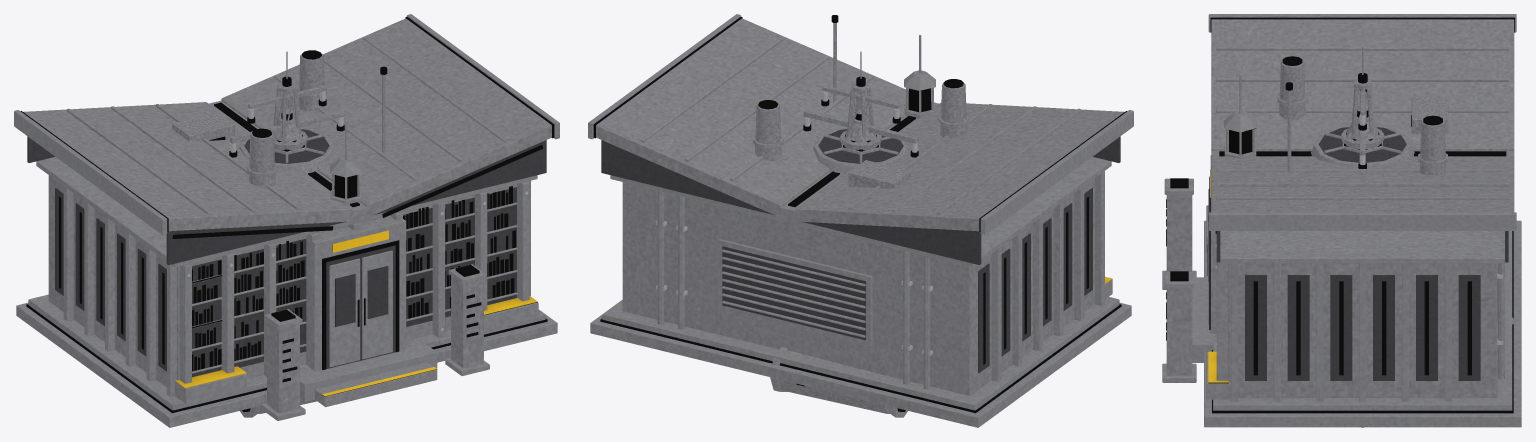
Rendered from buildings.glb.
The picture shows the model from 3 angles, left to right: view 1: azimuth 30°, elevation 25°; view 2: azimuth 150°, elevation 25°; view 3: azimuth 270°, elevation 25°; orthographic projection. The views are drawn at different scales.
Visible parts, largest first — view 1: library, pump, pylon, spire; view 2: library, pump, pylon, skiff, spire; view 3: library, pump, pylon, spire, stack.
Boxes of the visible parts, x1,y1,x2,y2 form: library: (14,14,559,427); pump: (172,50,387,187); pylon: (229,51,344,157); spire: (273,93,306,154); library: (588,14,1133,427); pump: (753,15,968,188); pylon: (803,51,918,157); skiff: (770,347,907,417); spire: (841,93,880,154); library: (1162,14,1521,427); pump: (1277,56,1448,175); pylon: (1351,46,1373,168); spire: (1342,90,1382,152); stack: (1341,129,1384,148).
Bounding box in the file's own units: 7.78 × 6.12 × 5.88.
24 materials, 24 textured.
